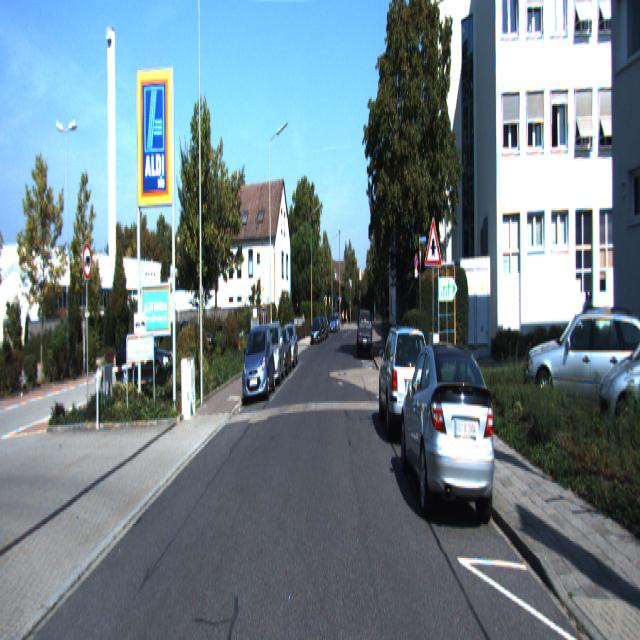Car: (398, 332, 501, 533), (523, 297, 640, 425), (378, 320, 433, 451), (600, 298, 640, 451), (114, 321, 174, 384), (240, 324, 276, 404), (257, 319, 286, 388), (358, 306, 373, 358)
